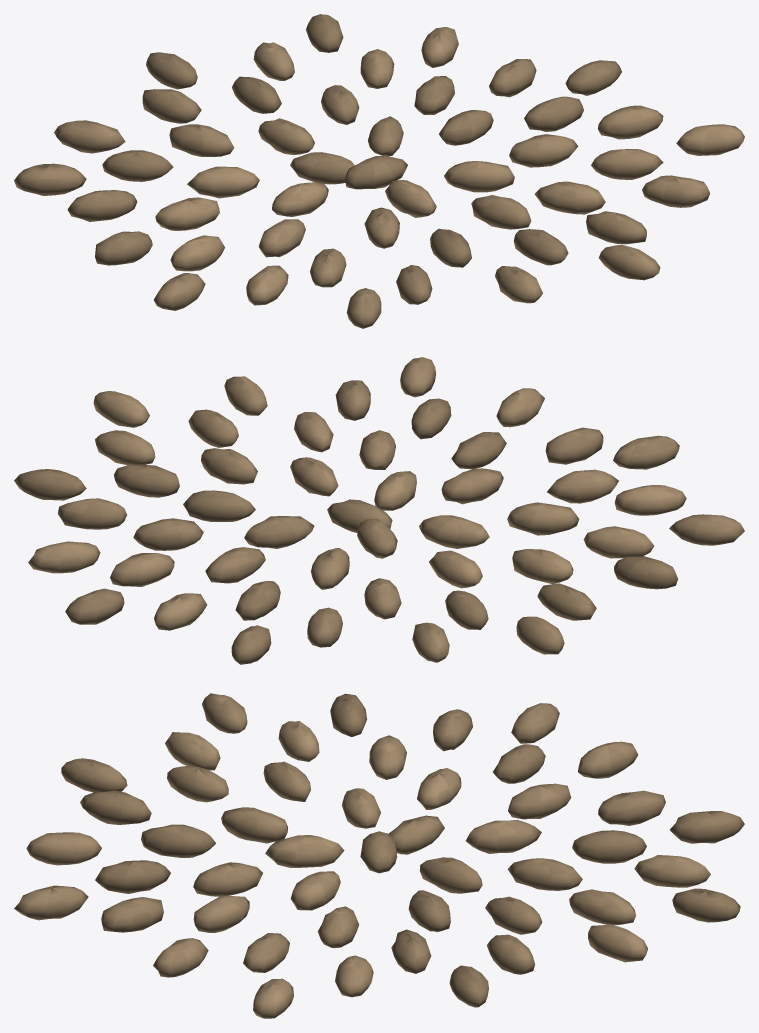
Rendered from Yeast.glb.
3 renders of one model, top to bottom at view 1: azimuth 30°, elevation 25°; view 2: azimuth 150°, elevation 25°; view 3: azimuth 270°, elevation 25°, orthographic. The views are drawn at different scales.
Visible parts, largest first — view 1: Yeast; view 2: Yeast; view 3: Yeast.
Boxes of the visible parts, bbox=[...] form: Yeast: bbox=[14, 14, 744, 328]; Yeast: bbox=[14, 357, 744, 664]; Yeast: bbox=[14, 693, 744, 1018].
Size of what is drawn, in the model's own units: 0.0175 by 0.000795 by 0.0172.
